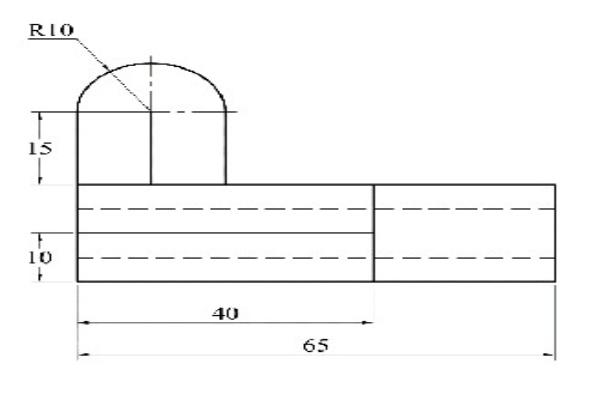dimensions: (22, 17, 77, 39), (20, 134, 60, 161), (204, 303, 244, 323), (301, 335, 333, 357), (22, 248, 53, 268)
